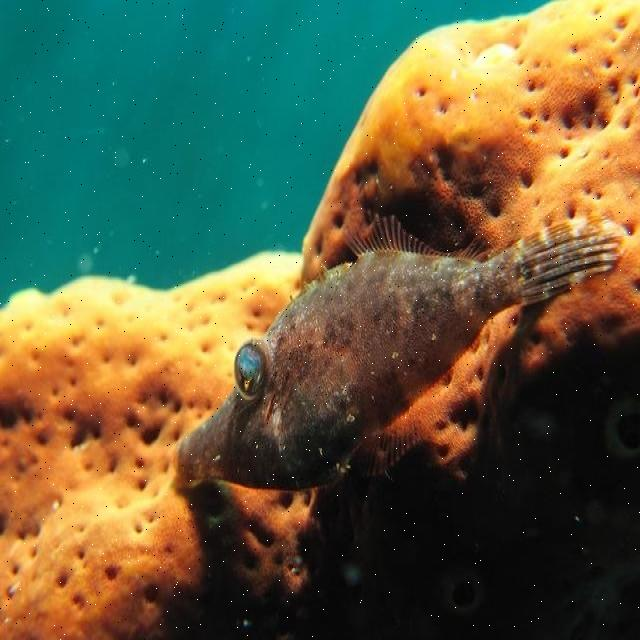fish: (174, 209, 627, 489)
reefs: (0, 1, 639, 639)
